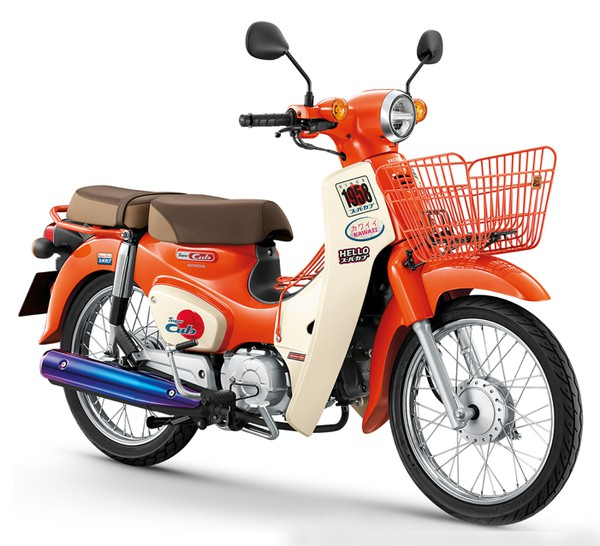motorcycle: (33, 82, 583, 525)
